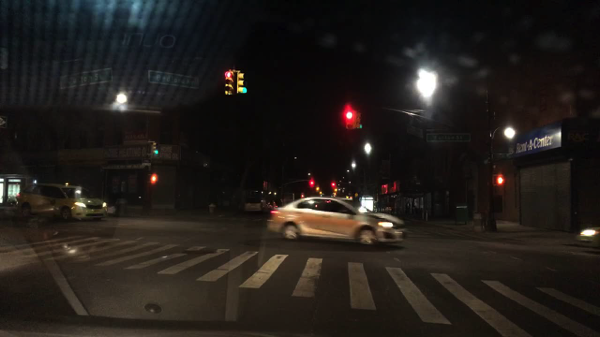car: (265, 198, 404, 247), (13, 183, 107, 222), (574, 225, 599, 248), (242, 196, 268, 213), (275, 196, 283, 208), (268, 198, 275, 209)
traffic light: (223, 71, 232, 95), (236, 72, 245, 93), (346, 110, 353, 131), (355, 110, 362, 130), (152, 141, 160, 155), (148, 175, 157, 184), (494, 177, 505, 184), (309, 179, 315, 187), (331, 183, 335, 188)
traffic sign: (57, 69, 113, 90), (148, 72, 199, 91), (426, 132, 470, 143), (403, 125, 423, 140), (492, 153, 512, 161), (141, 158, 152, 167), (1, 117, 7, 128), (482, 158, 489, 164)
